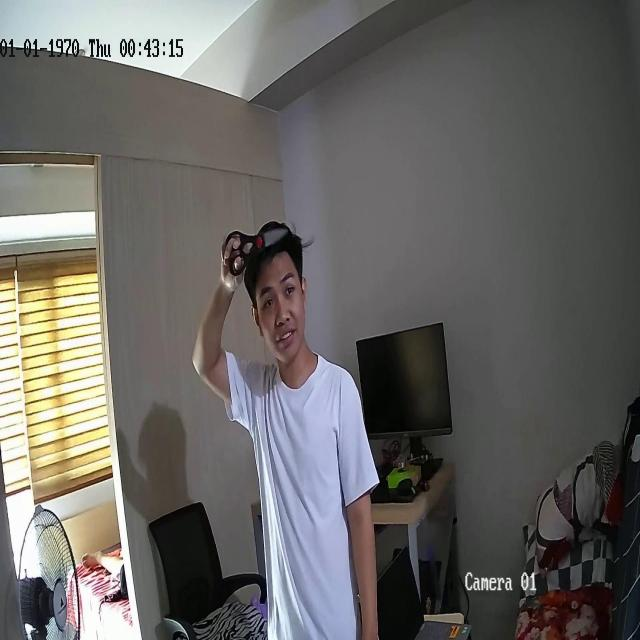scissor: (226, 228, 286, 276)
